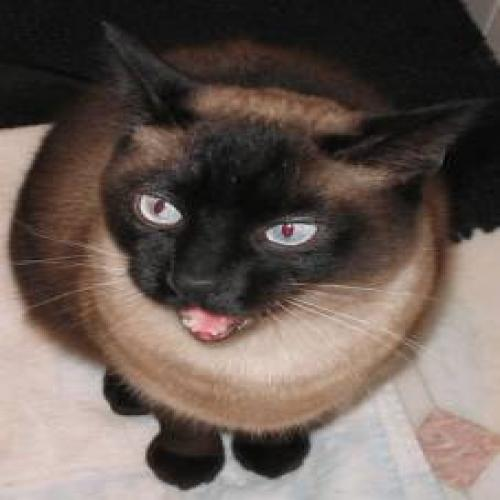siamese: (77, 4, 473, 368)
